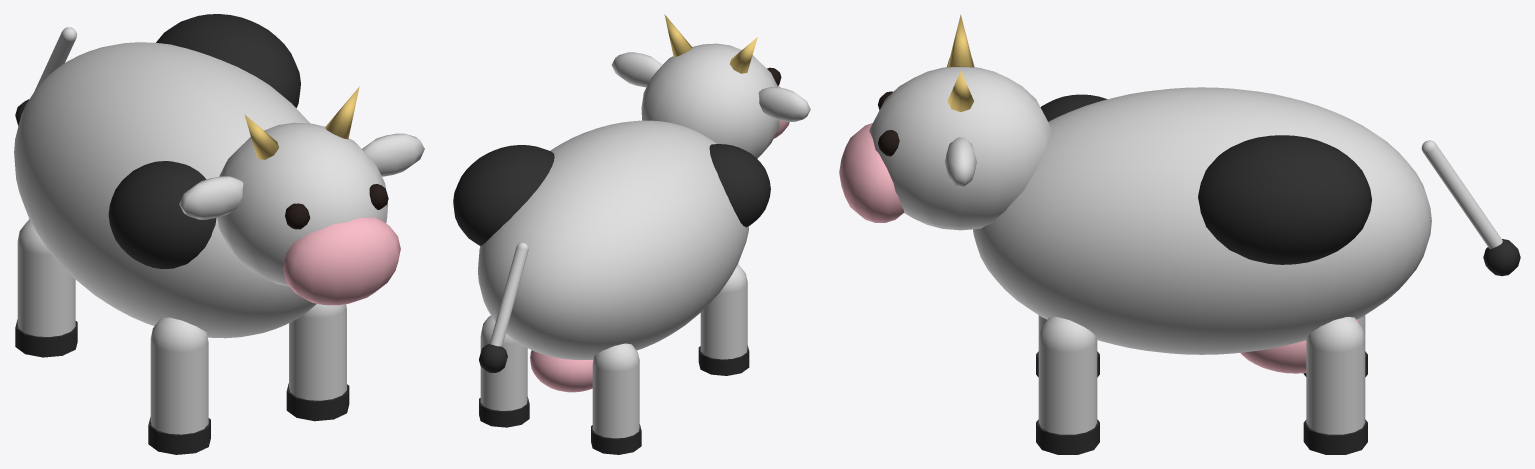
The model's file is cow.glb.
The picture shows the model from 3 angles, left to right: view 1: azimuth 30°, elevation 25°; view 2: azimuth 150°, elevation 25°; view 3: azimuth 270°, elevation 25°; orthographic projection. The views are drawn at different scales.
Visible parts, largest first — view 1: BodyMesh, HeadMesh, LegFLMesh, LegFRMesh, LegBLMesh, TailMesh; view 2: BodyMesh, HeadMesh, LegBLMesh, LegFLMesh, LegBRMesh, TailMesh; view 3: BodyMesh, HeadMesh, LegBRMesh, LegFRMesh, TailMesh.
Boxes of the visible parts, <box> form: BodyMesh: <box>14,14,316,338</box>; HeadMesh: <box>179,86,424,305</box>; LegFLMesh: <box>148,317,210,454</box>; LegFRMesh: <box>286,304,349,421</box>; LegBLMesh: <box>15,219,77,357</box>; TailMesh: <box>15,27,76,125</box>; BodyMesh: <box>453,120,770,392</box>; HeadMesh: <box>611,14,810,158</box>; LegBLMesh: <box>591,343,641,454</box>; LegFLMesh: <box>698,264,749,375</box>; LegBRMesh: <box>479,315,529,427</box>; TailMesh: <box>479,242,528,372</box>; BodyMesh: <box>973,87,1431,373</box>; HeadMesh: <box>839,14,1051,230</box>; LegBRMesh: <box>1303,317,1367,454</box>; LegFRMesh: <box>1036,317,1099,454</box>; TailMesh: <box>1421,140,1520,276</box>.
Size of the model in its own units: 1.17 by 1.55 by 2.54.
